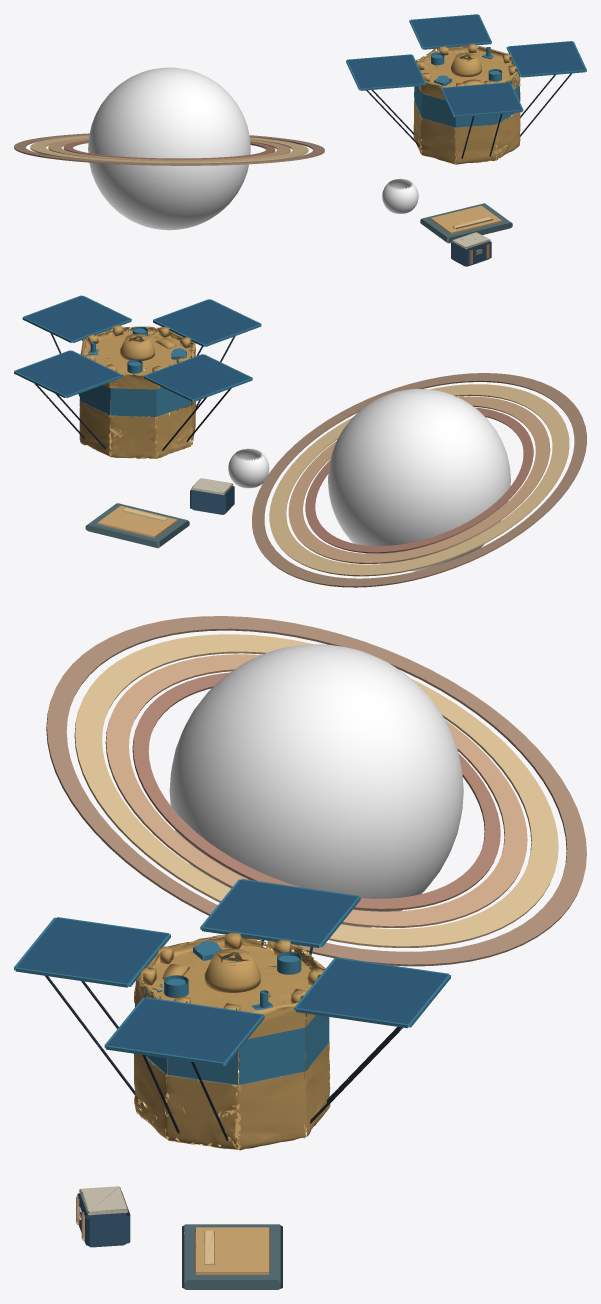
File: saturno.obj
3 views of the same model, one above another, from view 1: azimuth 30°, elevation 25°; view 2: azimuth 150°, elevation 25°; view 3: azimuth 270°, elevation 25° (orthographic). The views are drawn at different scales.
Parts seen in each view (by area): view 1: saturno; view 2: saturno; view 3: saturno.
Boxes of the visible parts, x1,y1,x2,y2 form: saturno: (14, 14, 586, 266); saturno: (14, 295, 586, 587); saturno: (14, 616, 586, 1289).
Size of the model in its own units: 1.75 by 0.6566 by 0.9399.
